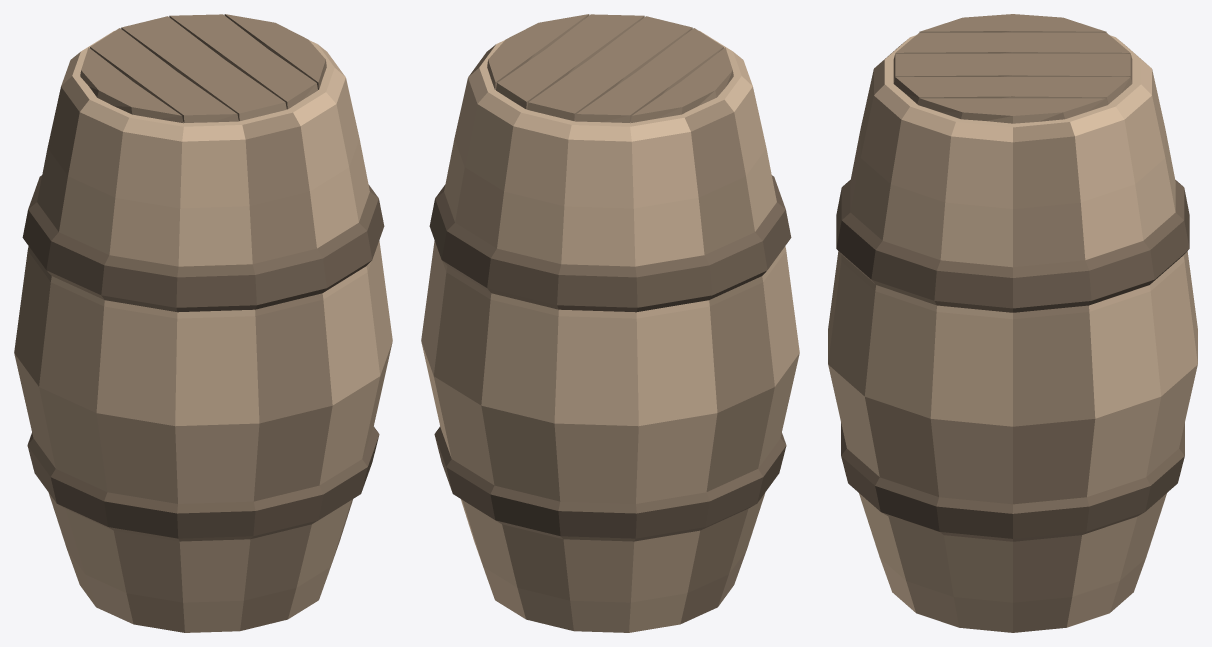
The model's file is wooden-barrel-ab50ca.glb.
3 views of the same model, side by side, from view 1: azimuth 30°, elevation 25°; view 2: azimuth 150°, elevation 25°; view 3: azimuth 270°, elevation 25° (orthographic).
Visible parts, largest first — view 1: barrel-body, lid-planks; view 2: barrel-body, lid-planks; view 3: barrel-body, lid-planks.
Boxes of the visible parts, x1,y1,x2,y2 form: barrel-body: (14,31,392,632); lid-planks: (80,14,326,123); barrel-body: (421,31,799,632); lid-planks: (487,14,733,123); barrel-body: (828,35,1197,632); lid-planks: (893,14,1132,123).
Size of the model in its own units: 0.6 by 0.9 by 0.585.
